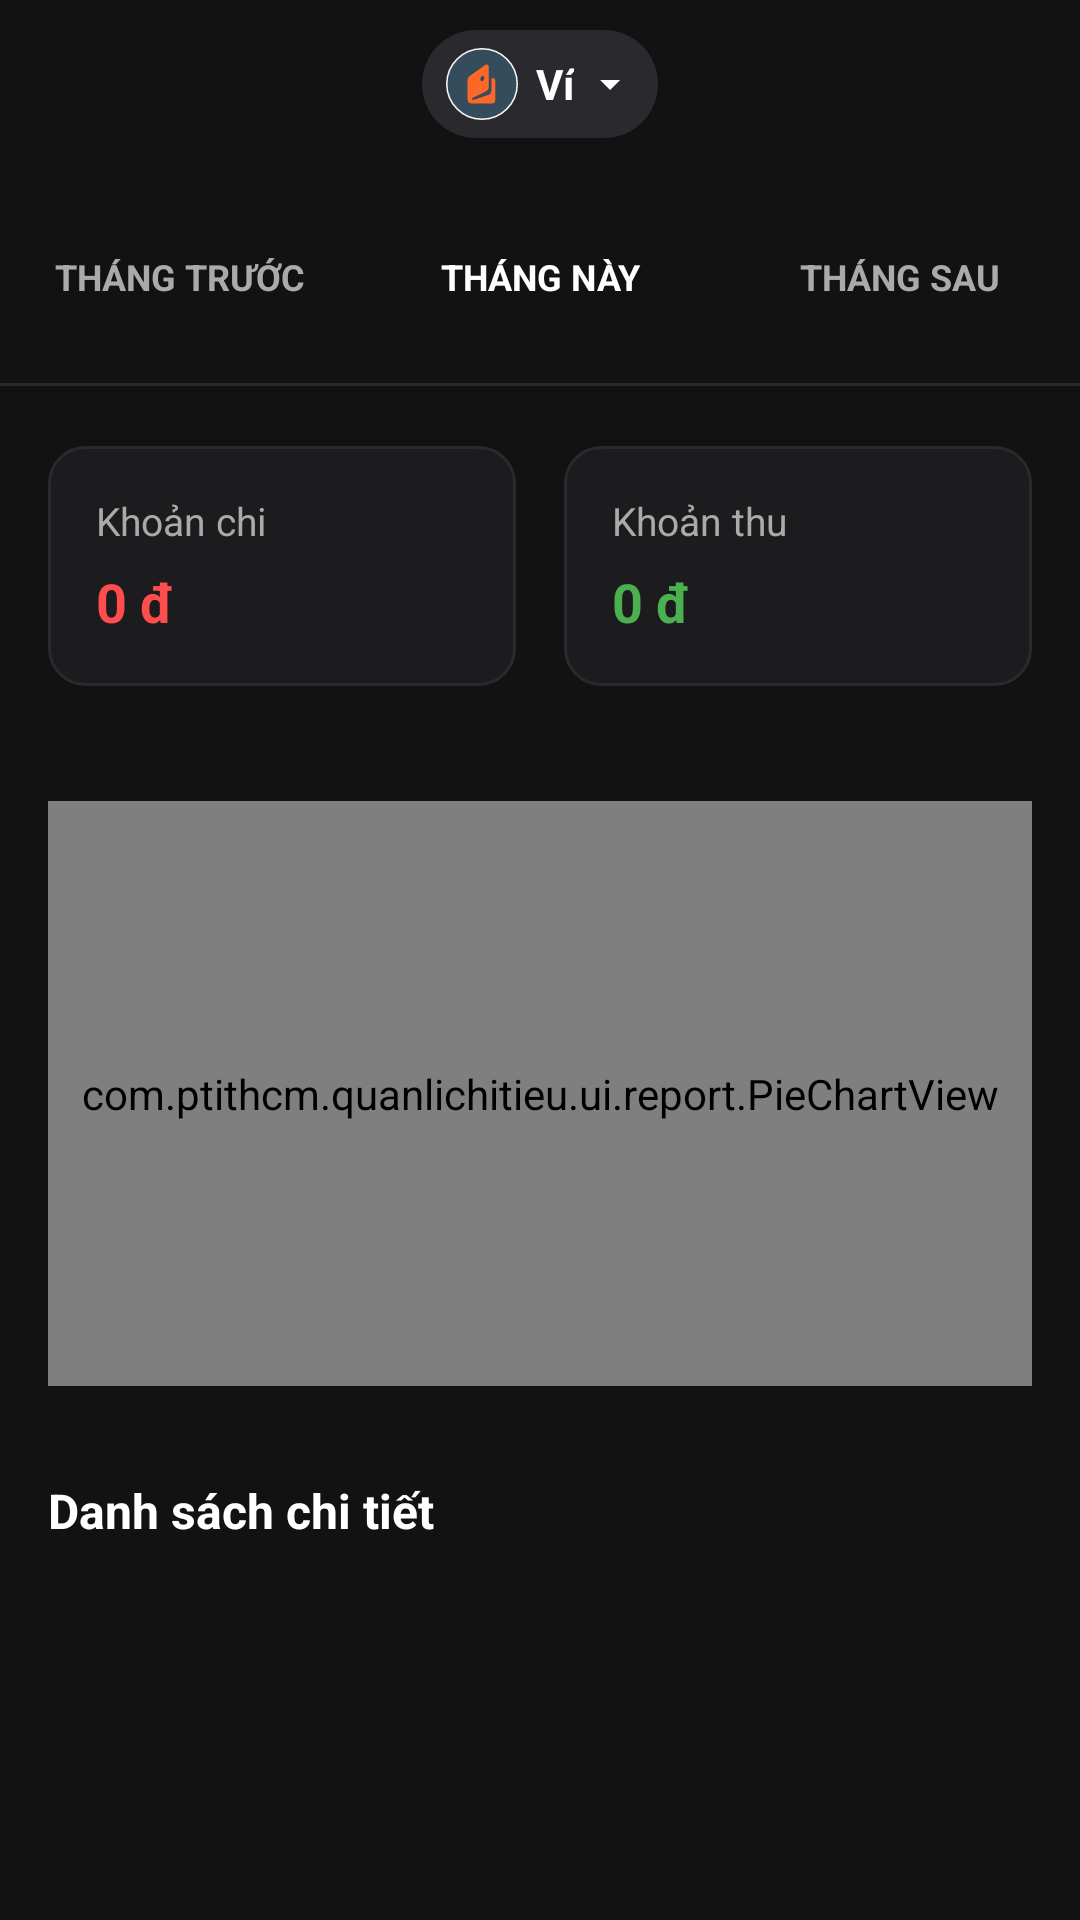

Icon bounding boxes for this 1080 x 1920 phone screenshot, format bbox=[x1, y1, x2, y2]:
Wallet: bbox=[446, 48, 518, 120]
